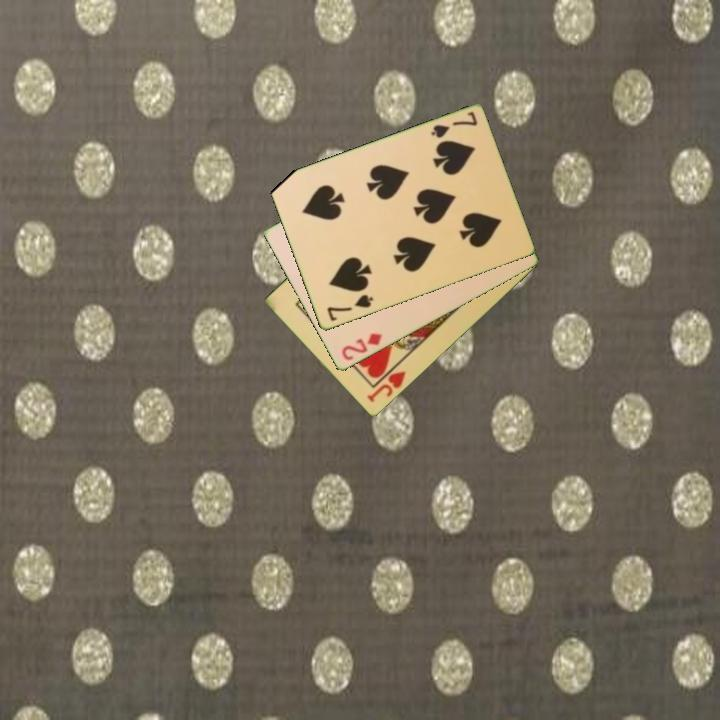2d: (338, 329, 385, 364)
7s: (323, 291, 376, 324), (427, 108, 480, 141)
Jh: (363, 359, 408, 406)
